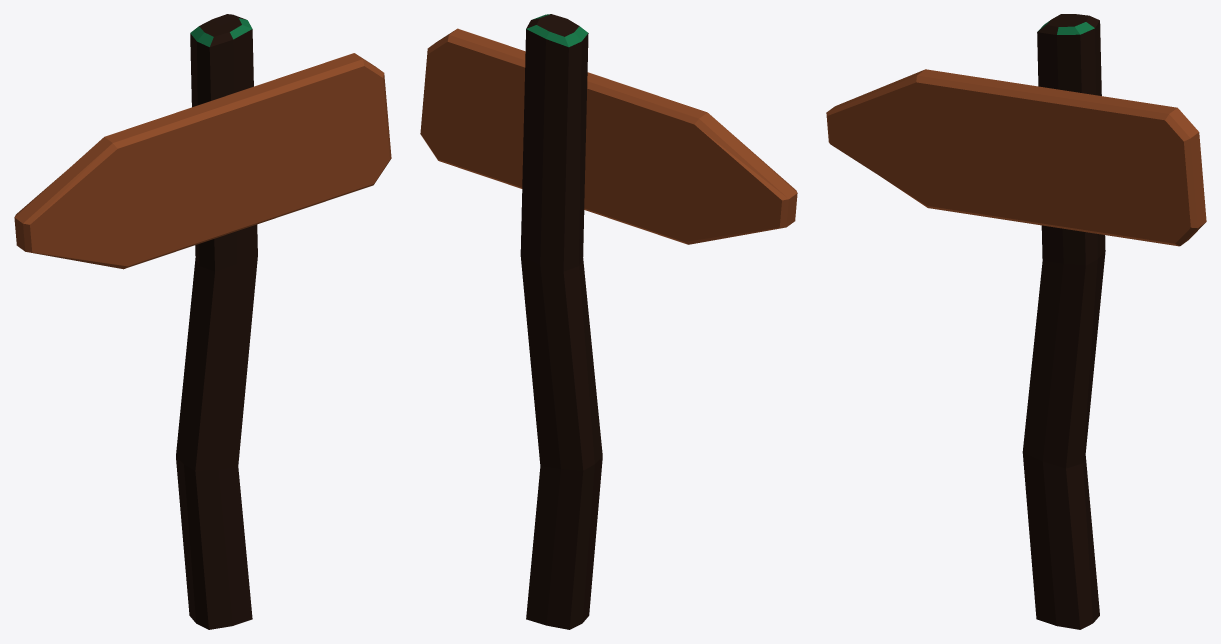
Rendered from SignPost02_FBX.fbx.
The picture shows the model from 3 angles, left to right: view 1: azimuth 30°, elevation 25°; view 2: azimuth 150°, elevation 25°; view 3: azimuth 330°, elevation 25°; orthographic projection.
Visible parts, largest first — view 1: Sign02Sign, Sign02Post; view 2: Sign02Post, Sign02Sign; view 3: Sign02Sign, Sign02Post.
Part boxes in pixels (x1,y1,x2,y2): Sign02Sign: (14, 53, 391, 269); Sign02Post: (176, 14, 257, 629); Sign02Post: (520, 14, 602, 629); Sign02Sign: (420, 28, 797, 244); Sign02Sign: (826, 69, 1206, 246); Sign02Post: (1022, 14, 1105, 629).
Bounding box in the file's own units: 145 × 224 × 24.1.
